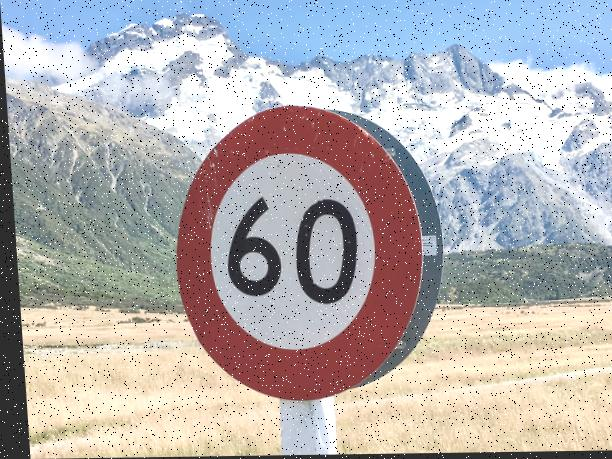Speed Limit -60-: (160, 101, 431, 402)
